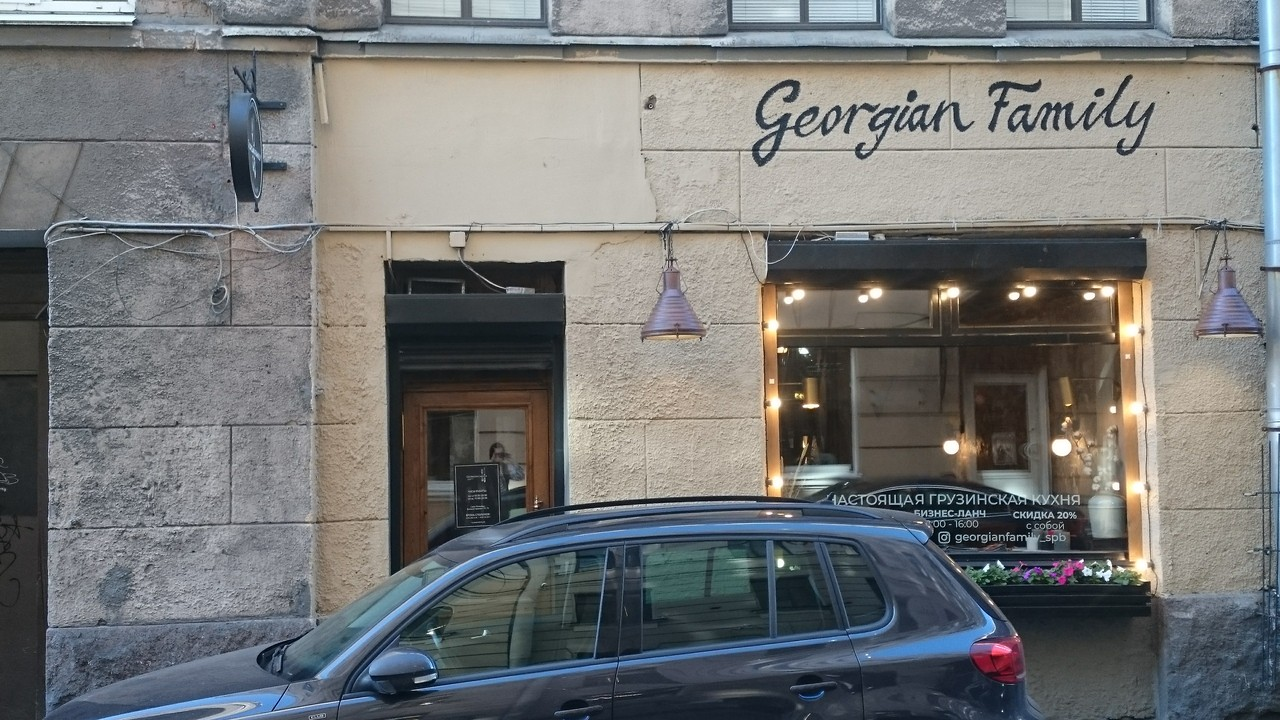cantilever: (228, 55, 282, 215)
window: (767, 273, 1127, 556)
